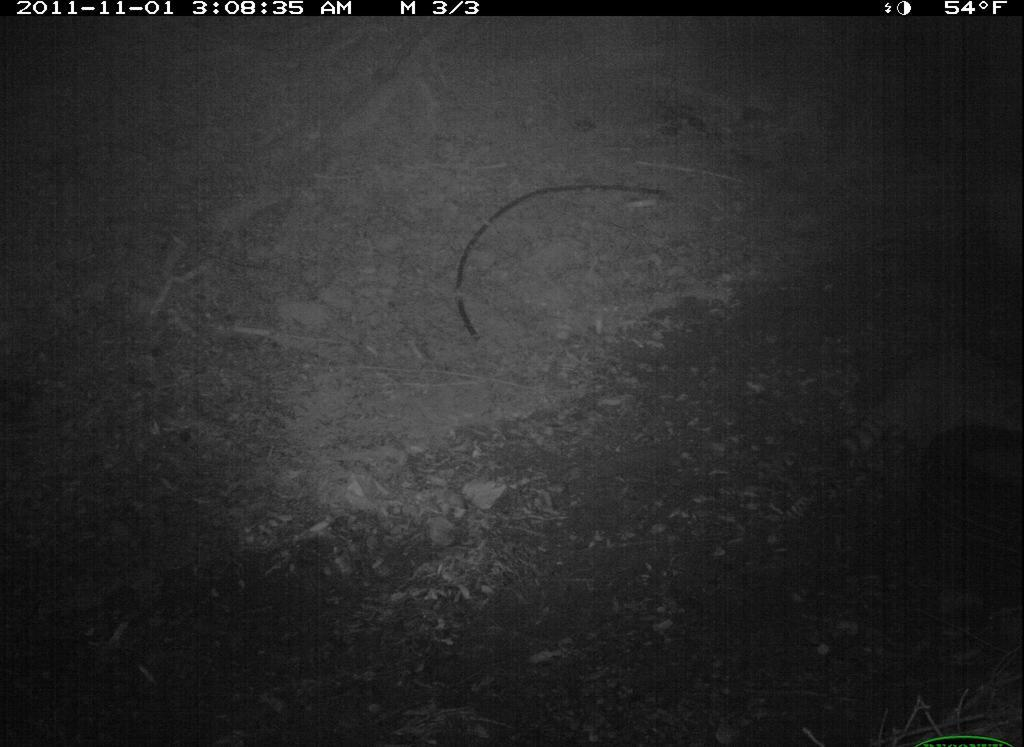raccoon: (830, 336, 1022, 487)
